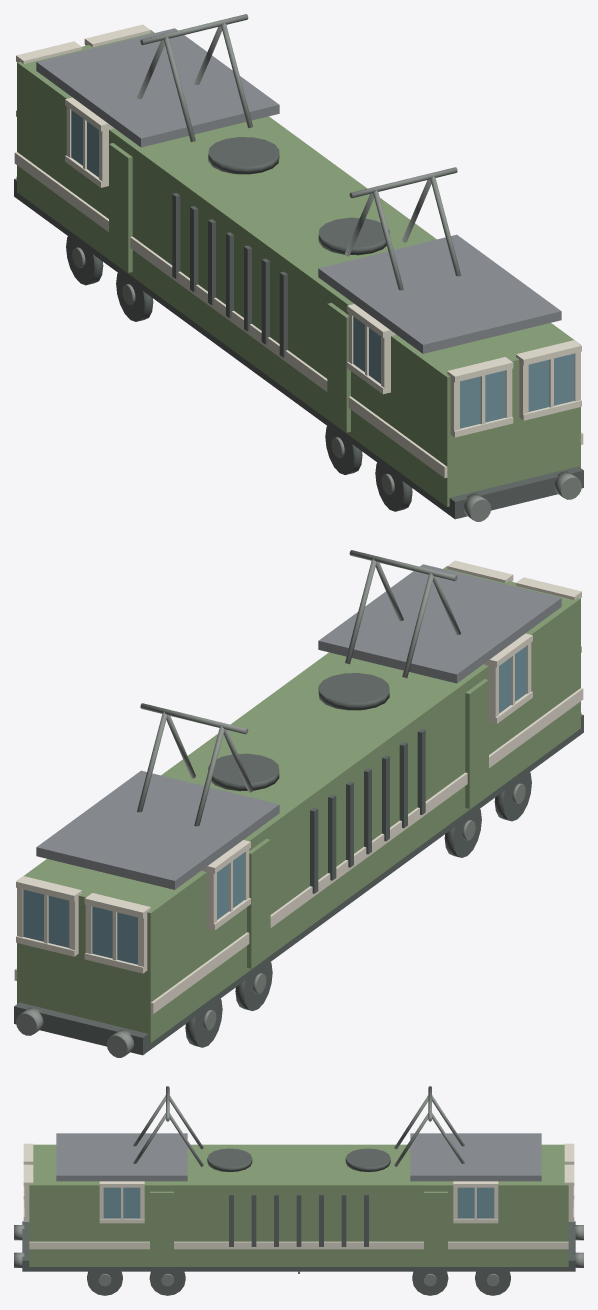
The model's file is rhine-e10_lod0.glb.
The picture shows the model from 3 angles, top to bottom: view 1: azimuth 30°, elevation 25°; view 2: azimuth 150°, elevation 25°; view 3: azimuth 270°, elevation 25°; orthographic projection. The views are drawn at different scales.
Parts seen in each view (by area): view 1: RF_EngineBody, RF_CabRoof.001, RF_CabRoof, RF_Chassis, RF_BodyStripe.001, RF_CabDoor.003, RF_CabDoor.001, RF_RoofFan, RF_Window.002, RF_Window.001, RF_RoofFan.001, RF_Window.007 (+19 smaller); view 2: RF_EngineBody, RF_CabRoof, RF_CabRoof.001, RF_Chassis, RF_BodyStripe.001, RF_CabDoor.001, RF_CabDoor.003, RF_RoofFan.001, RF_Window.006, RF_Window.005, RF_RoofFan, RF_Window.003 (+19 smaller); view 3: RF_EngineBody, RF_CabRoof.001, RF_CabRoof, RF_BodyStripe, RF_Chassis, RF_CabDoor.002, RF_CabDoor, RF_Window.004, RF_Window, RF_RoofFan.001, RF_RoofFan, RF_Wheel.004 (+8 smaller).
Part boxes in pixels (x1,y1,x2,y2): RF_EngineBody: (17,30,580,506); RF_CabRoof.001: (318,234,561,353); RF_CabRoof: (36,28,279,147); RF_Chassis: (14,178,583,519); RF_BodyStripe.001: (14,152,447,477); RF_CabDoor.003: (109,143,132,272); RF_CabDoor.001: (327,303,350,432); RF_RoofFan: (208,137,279,174); RF_Window.002: (528,353,574,411); RF_Window.001: (460,370,505,428); RF_RoofFan.001: (318,217,389,255); RF_Window.007: (71,110,98,177); RF_EngineBody: (17,566,580,1042); RF_CabRoof: (36,770,279,889); RF_CabRoof.001: (318,564,561,683); RF_Chassis: (14,714,583,1055); RF_BodyStripe.001: (150,688,583,1013); RF_CabDoor.001: (465,679,488,808); RF_CabDoor.003: (247,839,270,968); RF_RoofFan.001: (318,673,389,710); RF_Window.006: (23,889,69,947); RF_Window.005: (92,906,137,964); RF_RoofFan: (208,753,279,791); RF_Window.003: (499,646,526,713); RF_EngineBody: (29,1144,568,1266); RF_CabRoof.001: (56,1133,187,1181); RF_CabRoof: (410,1133,541,1181); RF_BodyStripe: (29,1241,568,1249); RF_Chassis: (22,1221,575,1271); RF_CabDoor.002: (150,1191,173,1265); RF_CabDoor: (424,1191,447,1265); RF_Window.004: (103,1187,140,1218); RF_Window: (457,1187,494,1218); RF_RoofFan.001: (207,1148,252,1171); RF_RoofFan: (345,1148,390,1171); RF_Wheel.004: (149,1271,185,1295).
Size of the model in its own units: 3.14 by 5.56 by 16.48.
